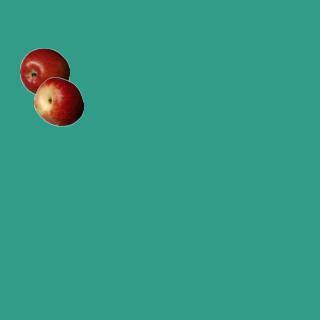Apple Braeburn: (19, 47, 69, 97)
Nectarine: (33, 76, 83, 126)
